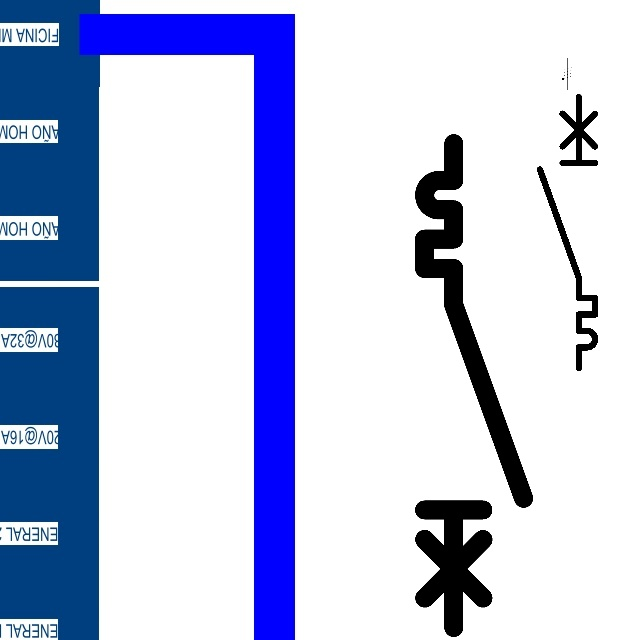interruptor_termomagnetico: (412, 131, 536, 640), (533, 90, 602, 375)
